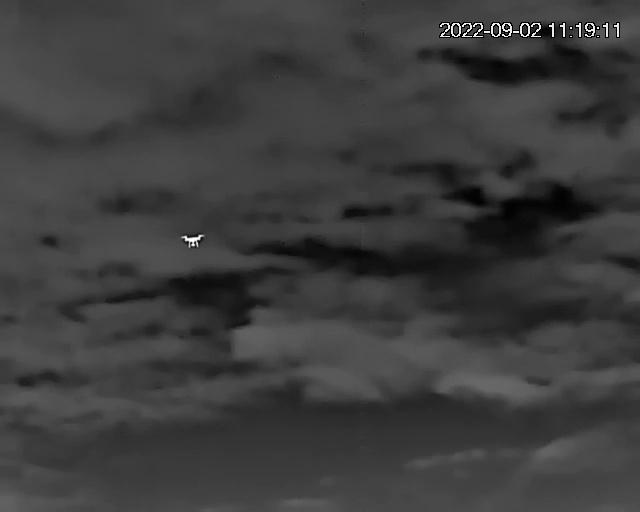DJI-Phantom: (180, 230, 208, 252)
